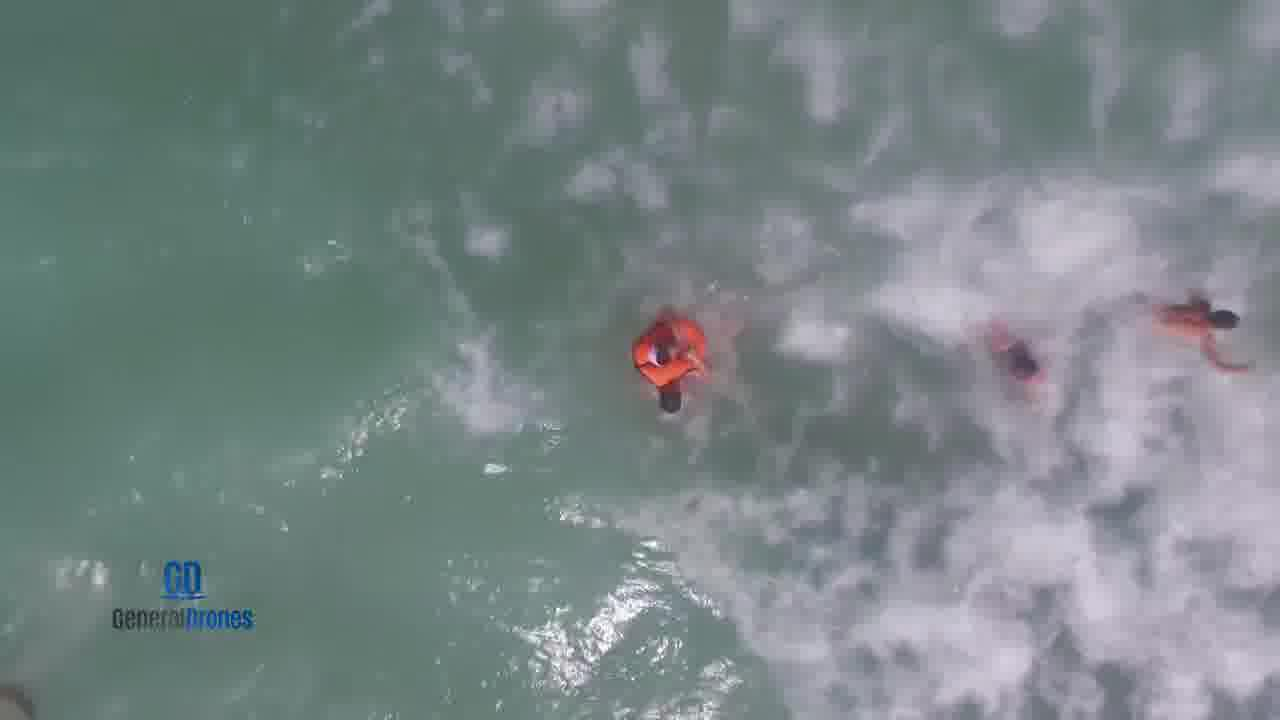swimmer: (1129, 272, 1263, 383), (624, 295, 727, 418), (973, 290, 1054, 397)
